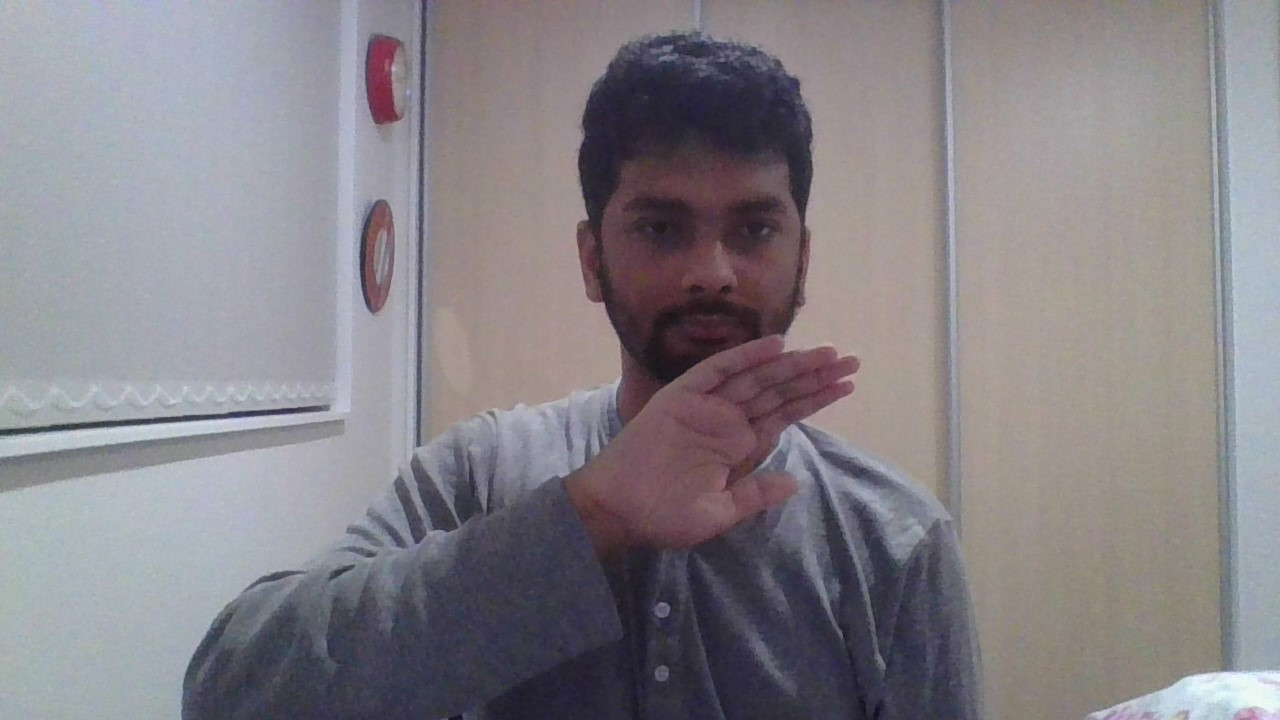hello: (586, 335, 861, 549)
